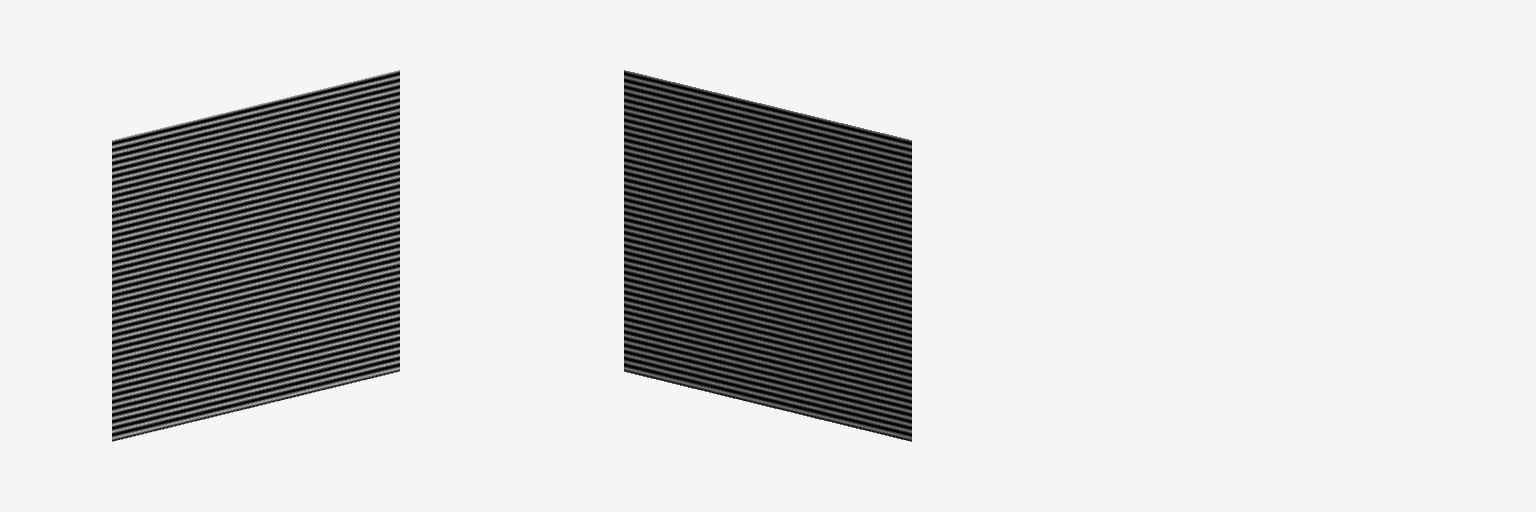
The picture shows the model from 3 angles: view 1: azimuth 30°, elevation 25°; view 2: azimuth 150°, elevation 25°; view 3: azimuth 270°, elevation 25°; orthographic projection.
Parts seen in each view (by area): view 1: pPlane1; view 2: pPlane1; view 3: none.
Part boxes in pixels (x1,y1,x2,y2): pPlane1: (112,70,399,441); pPlane1: (624,70,911,441).
Size of the model in its own units: 1 by 1 by 0.
Materials: 1 (1 with a texture image).